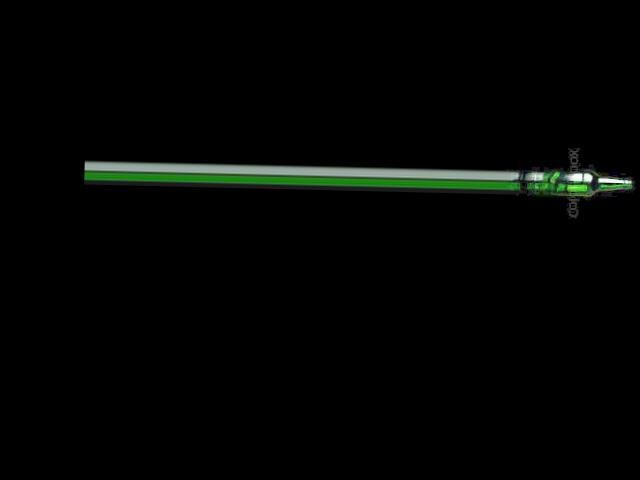beer: (533, 171, 632, 197)
